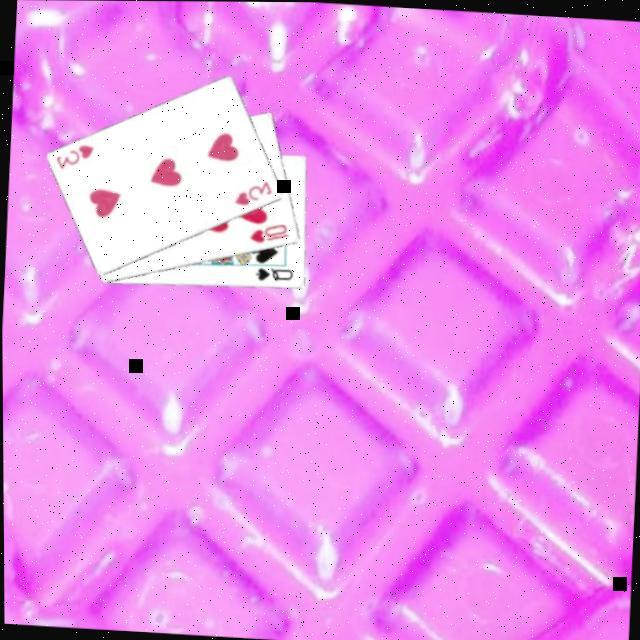10H: (247, 217, 292, 245)
3H: (53, 138, 98, 172), (232, 174, 276, 208)
QS: (253, 262, 297, 283)
